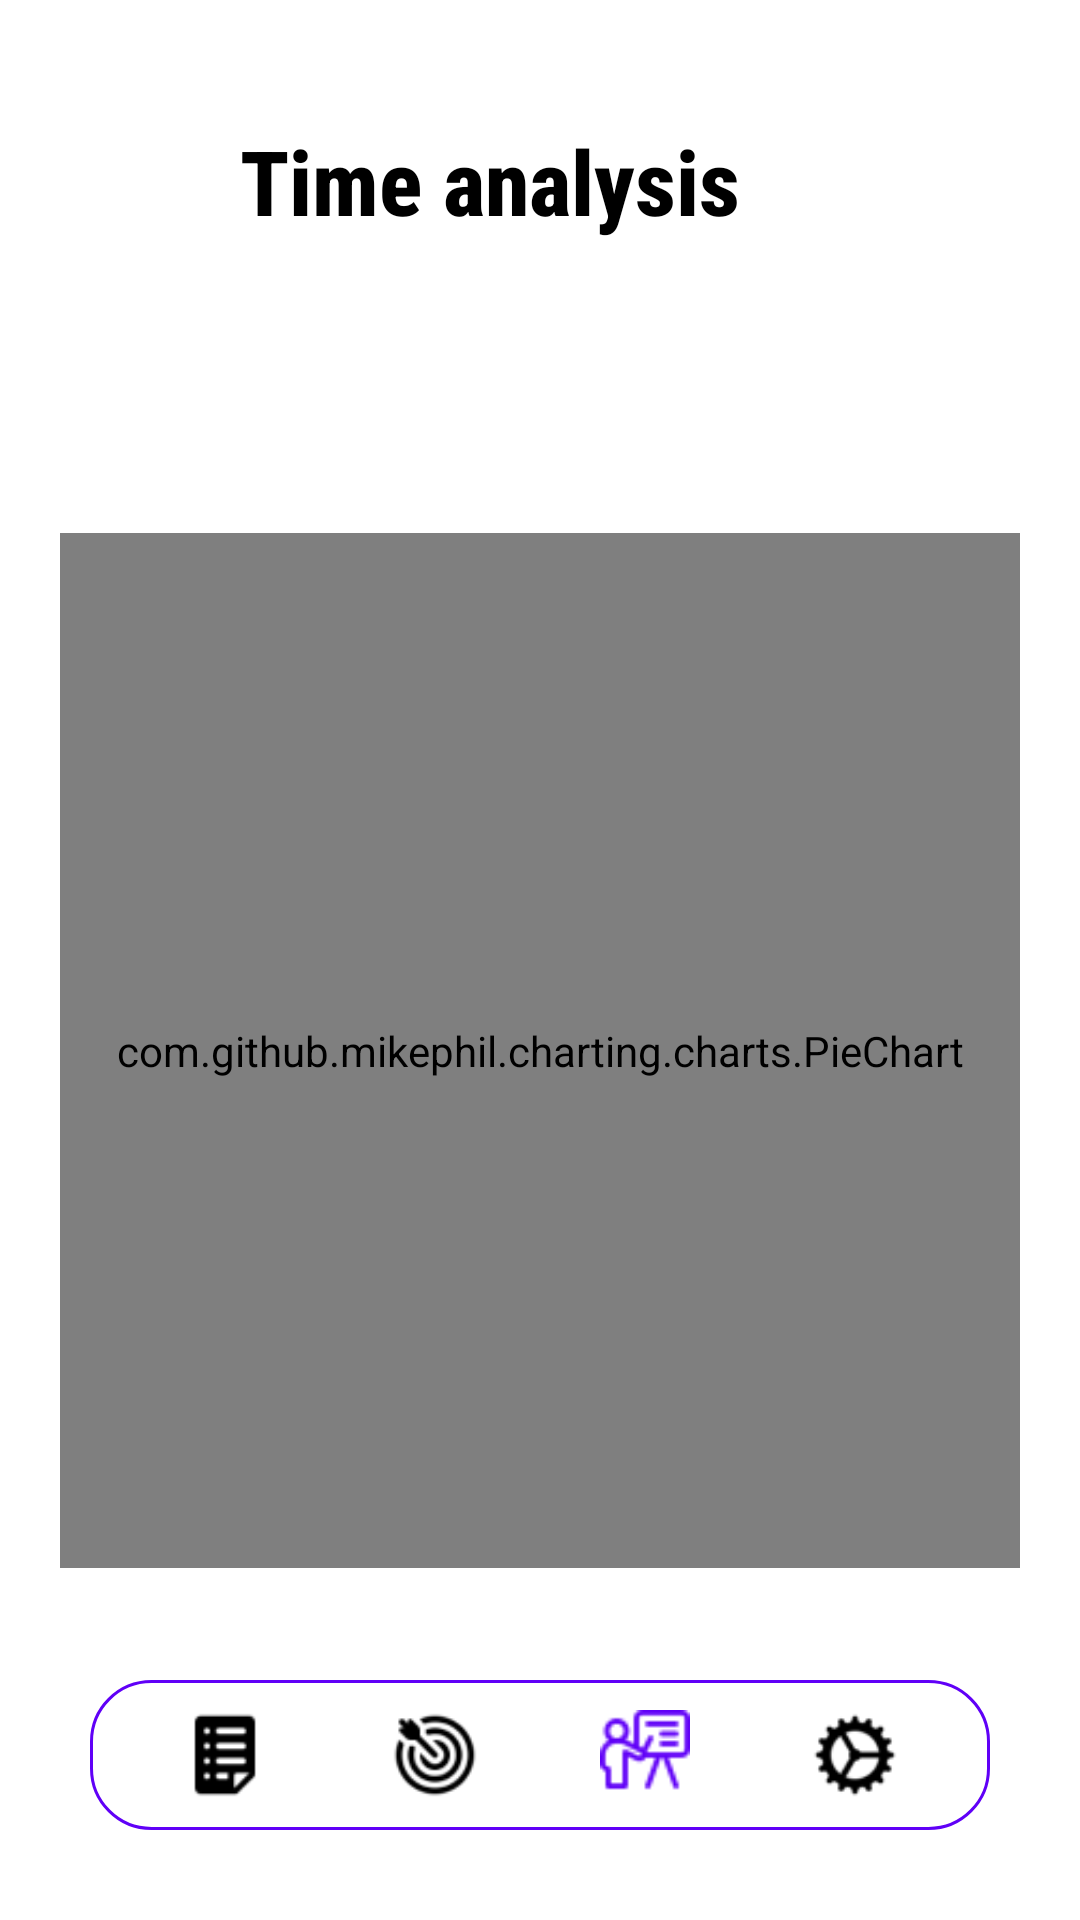

Where icons sit on this 1080w x 1920h app screen, as [x1, y1, x2, y2]:
notes: [194, 1714, 256, 1796]
setting: [814, 1714, 896, 1796]
